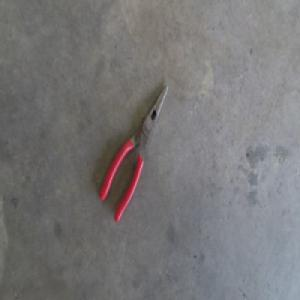Pliers: (99, 81, 171, 222)
